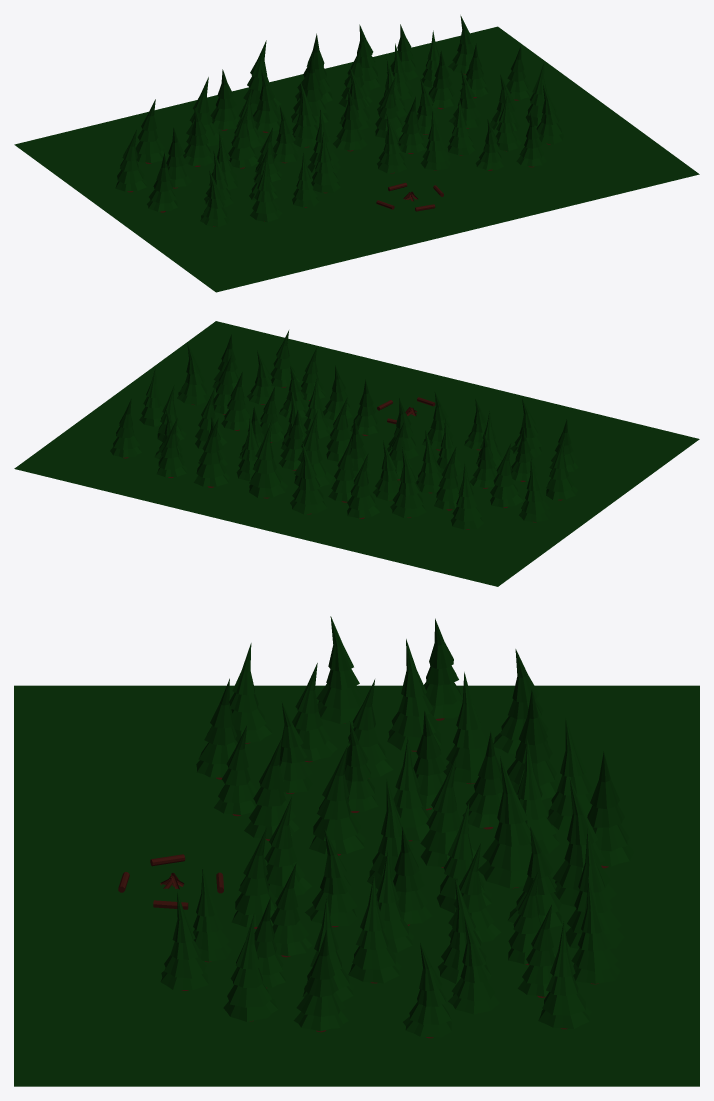
File: campsite.obj
The picture shows the model from 3 angles, top to bottom: view 1: azimuth 30°, elevation 25°; view 2: azimuth 150°, elevation 25°; view 3: azimuth 270°, elevation 25°; orthographic projection. The views are drawn at different scales.
Parts seen in each view (by area): view 1: Campsite; view 2: Campsite; view 3: Campsite.
Part boxes in pixels (x1,y1,x2,y2): Campsite: (14, 15, 699, 292); Campsite: (14, 321, 699, 586); Campsite: (14, 616, 699, 1086).
Bounding box in the file's own units: 33.03 × 4.99 × 23.89.
